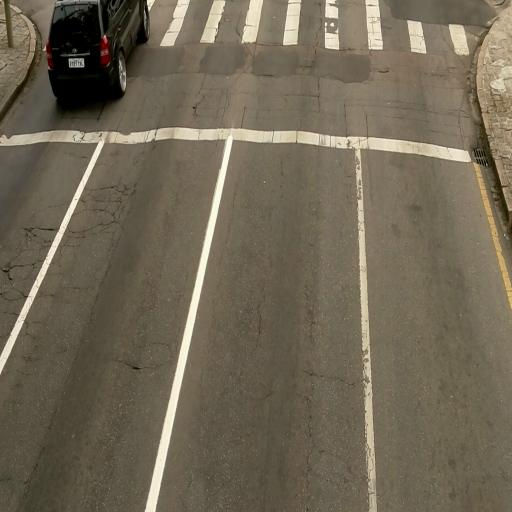car: (31, 2, 158, 113)
